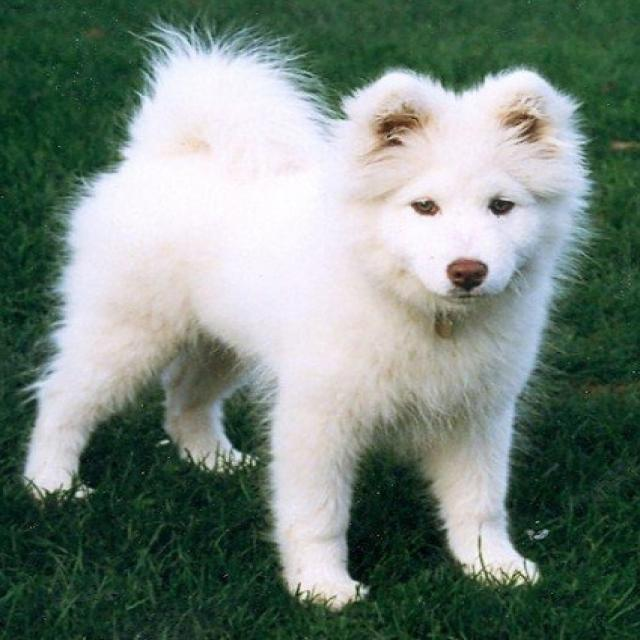dog-samoyed: (11, 18, 598, 617)
